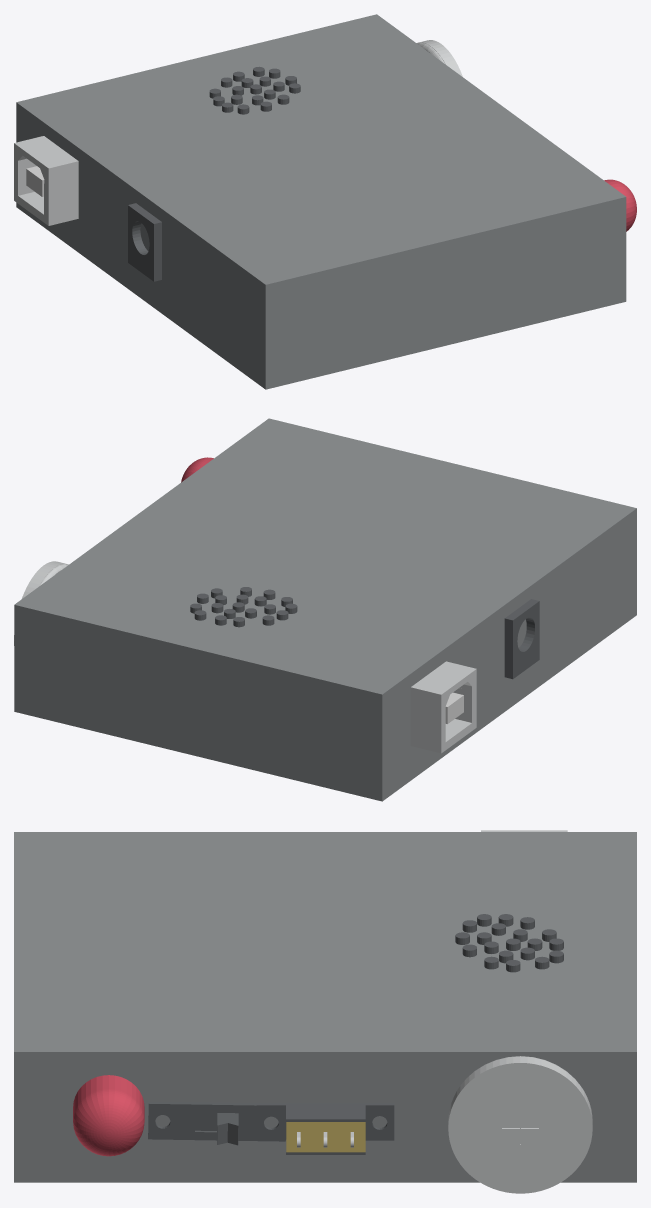
The model's file is radbag.glb.
3 renders of one model, top to bottom at view 1: azimuth 30°, elevation 25°; view 2: azimuth 150°, elevation 25°; view 3: azimuth 270°, elevation 25°, orthographic. The views are drawn at different scales.
Visible parts, largest first — view 1: Mesh_Mesh_head_geo.001_lambert2SG.001; view 2: Mesh_Mesh_head_geo.001_lambert2SG.001; view 3: Mesh_Mesh_head_geo.001_lambert2SG.001.
Boxes of the visible parts, bbox=[...] form: Mesh_Mesh_head_geo.001_lambert2SG.001: bbox=[14, 14, 636, 389]; Mesh_Mesh_head_geo.001_lambert2SG.001: bbox=[14, 418, 636, 801]; Mesh_Mesh_head_geo.001_lambert2SG.001: bbox=[14, 830, 636, 1193].
Size of the model in its own units: 86.82 by 21 by 86.26.
